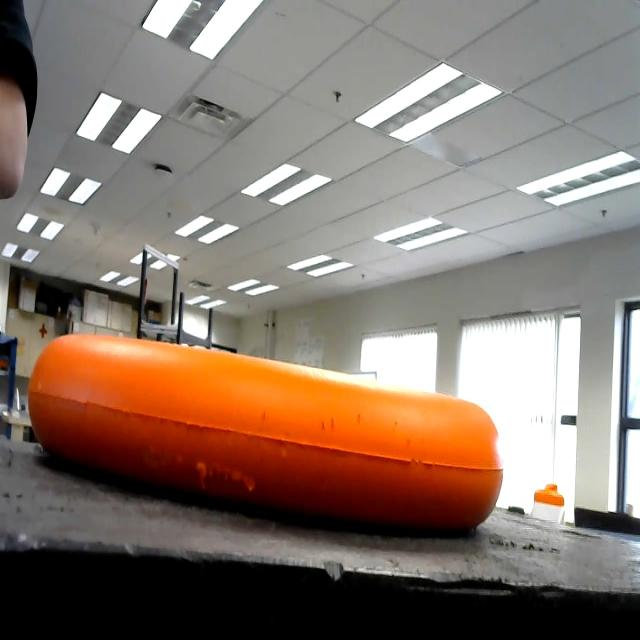note: (28, 319, 517, 557)
